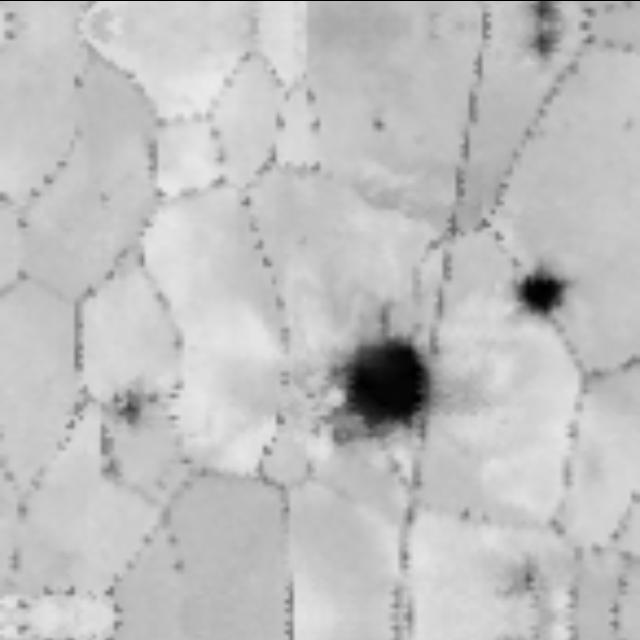good_void: (303, 290, 460, 459), (499, 252, 578, 325), (94, 368, 171, 441), (488, 547, 555, 616), (529, 24, 566, 68), (357, 103, 399, 138), (503, 616, 555, 640), (529, 0, 566, 24), (93, 189, 117, 205)
